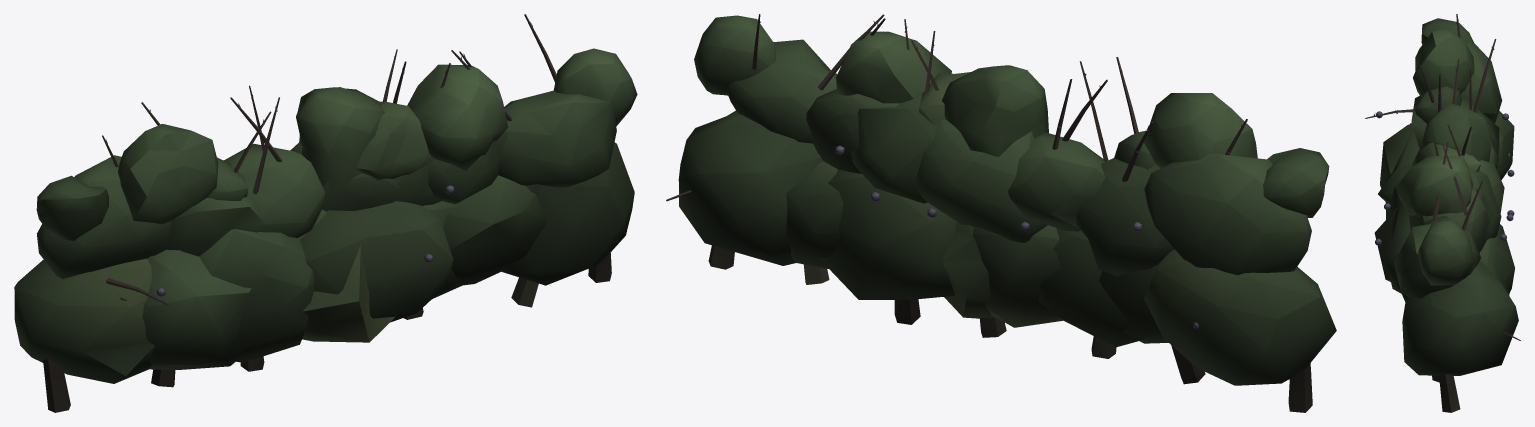
File: ph_env_hedge_thorn.glb
The picture shows the model from 3 angles, left to right: view 1: azimuth 30°, elevation 25°; view 2: azimuth 150°, elevation 25°; view 3: azimuth 270°, elevation 25°; orthographic projection. The views are drawn at different scales.
Parts seen in each view (by area): view 1: ph_env_hedge_thorn; view 2: ph_env_hedge_thorn; view 3: ph_env_hedge_thorn.
Boxes of the visible parts, x1,y1,x2,y2 form: ph_env_hedge_thorn: (14,14,637,412); ph_env_hedge_thorn: (666,14,1336,412); ph_env_hedge_thorn: (1365,14,1520,412).
Size of the model in its own units: 3.89 by 1.65 by 1.1.
